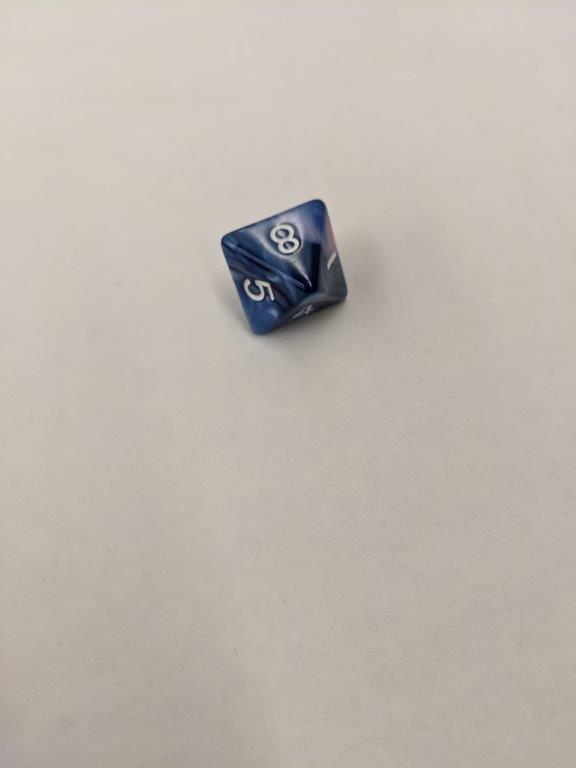d8-8: (218, 196, 351, 336)
